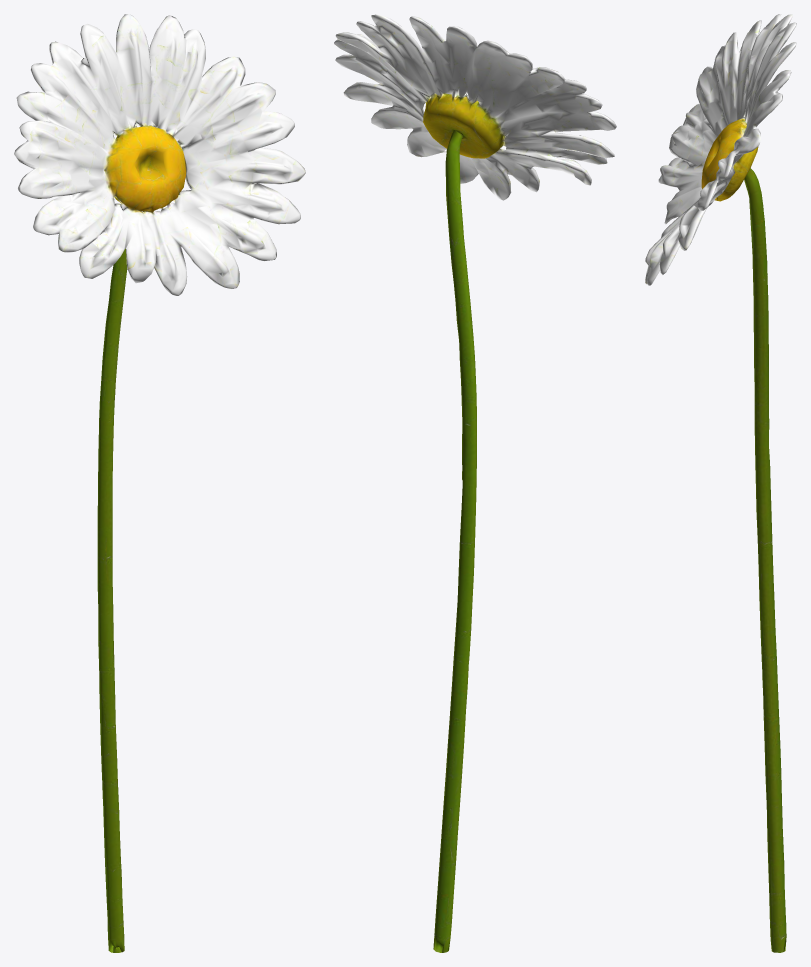
The model's file is markaret.glb.
3 views of the same model, side by side, from view 1: azimuth 30°, elevation 25°; view 2: azimuth 150°, elevation 25°; view 3: azimuth 270°, elevation 25° (orthographic). The views are drawn at different scales.
Bounding box in the file's own units: 0.5978 × 1.9 × 0.2851.
1 material, 1 textured.
